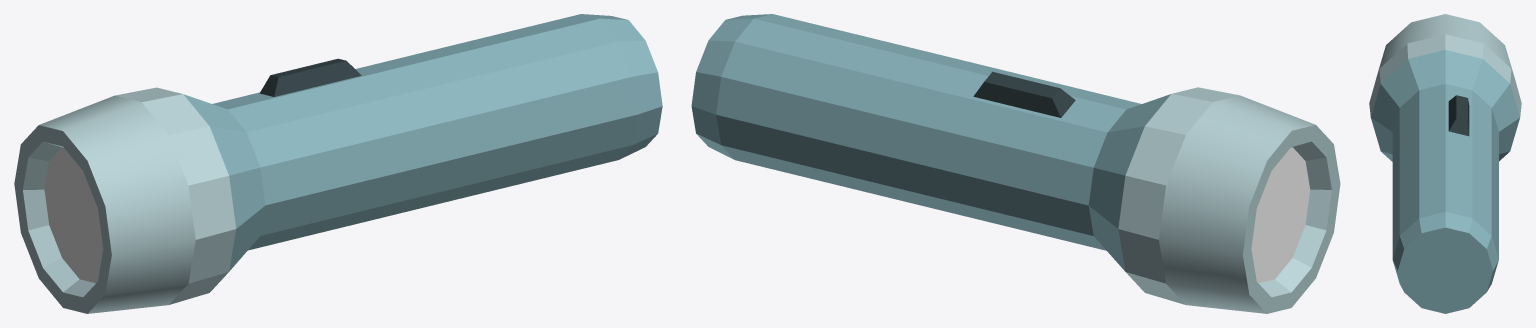
Rendered from Flashlight.FBX.
3 renders of one model, left to right at view 1: azimuth 30°, elevation 25°; view 2: azimuth 150°, elevation 25°; view 3: azimuth 270°, elevation 25°, orthographic. The views are drawn at different scales.
Visible parts, largest first — view 1: Cylinder001; view 2: Cylinder001; view 3: Cylinder001.
Part boxes in pixels (x1,y1,x2,y2): Cylinder001: (14,14,662,313); Cylinder001: (691,14,1340,313); Cylinder001: (1369,14,1521,313).
Bounding box in the file's own units: 346 × 115 × 115.
